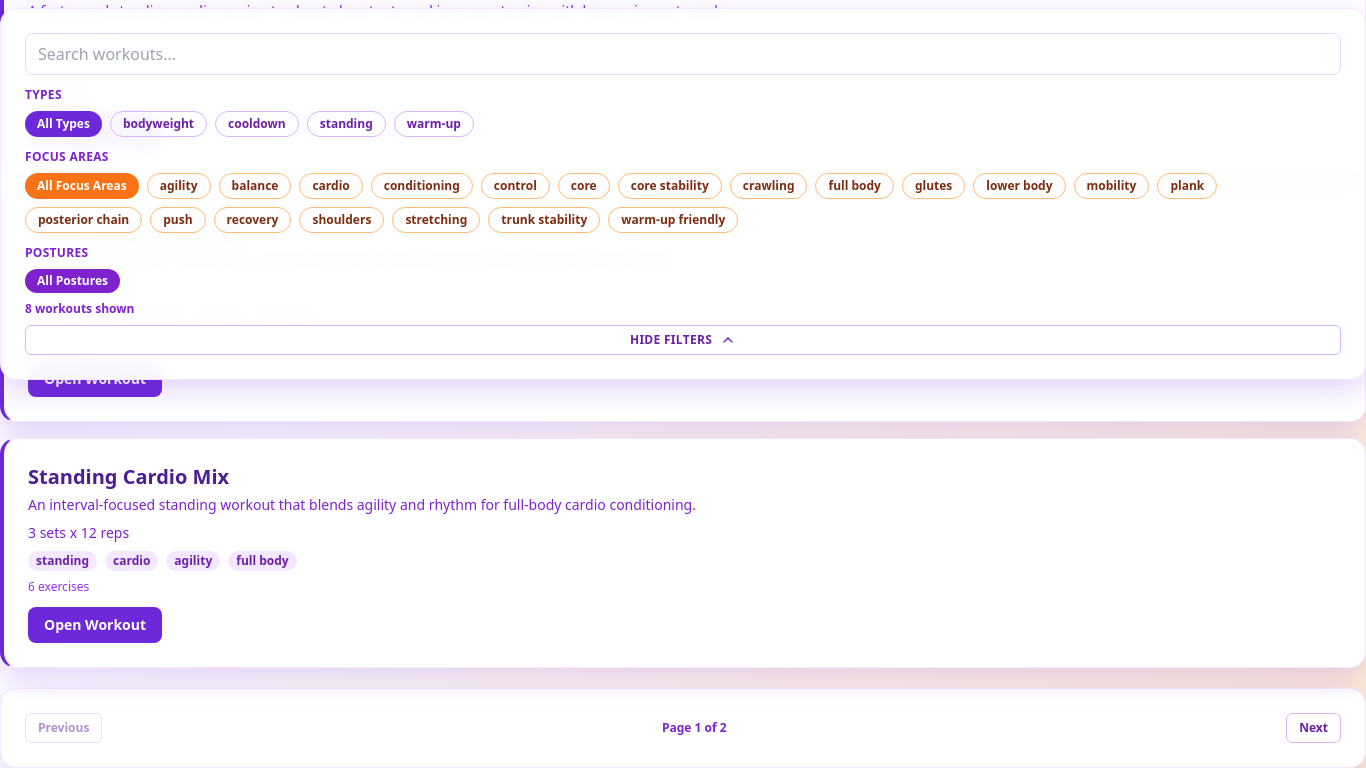
WorkoutList search › paginates workouts with 5 per page
(page scrolled)
Expected: the text "Page 1 of 2" is shown, [662,720,727,736]
Expected: the text "Bodyweight Core Control" is not shown
Click the button "Next" at (1314, 728), box [1286,713,1341,743]
(page scrolled)
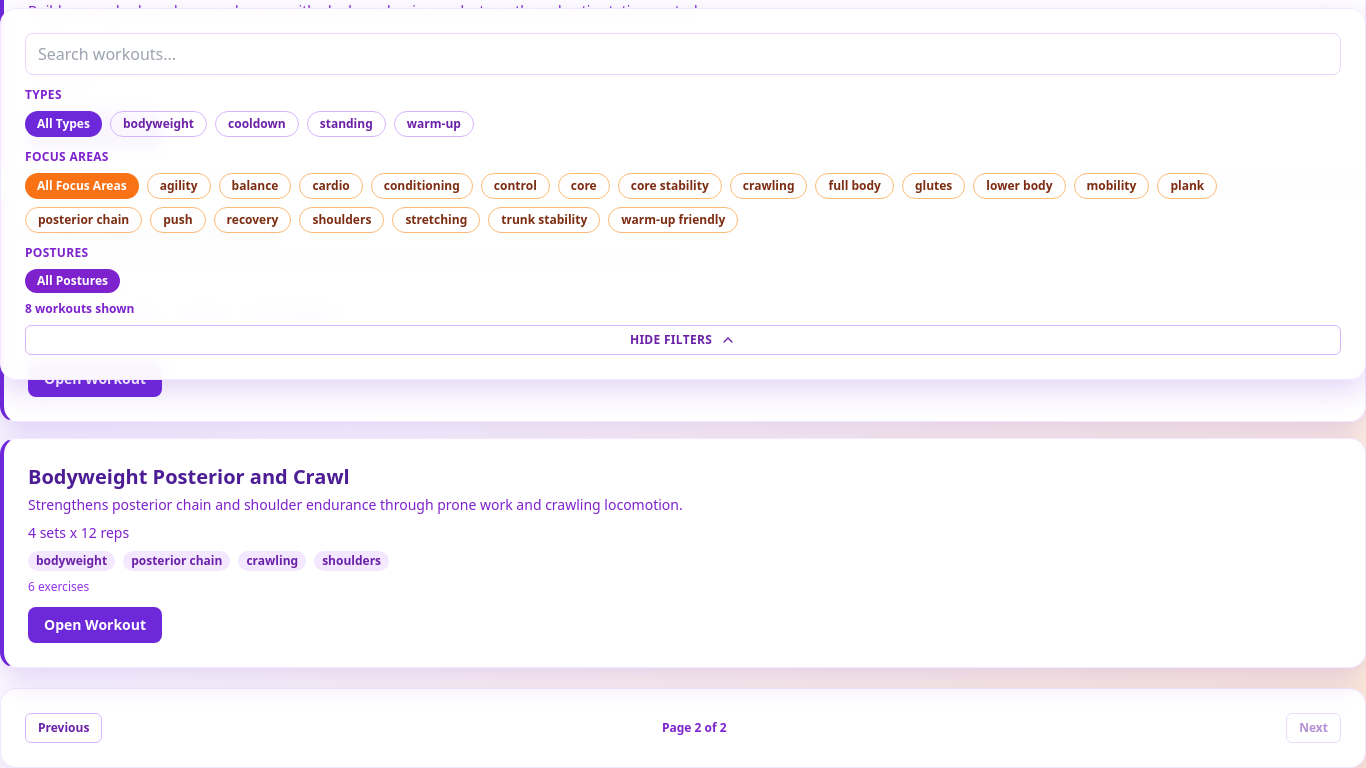
Expected: the link "Bodyweight Core Control" is shown, [28,217,278,244]
Now the text "Page 2 of 2" is shown, box [662,720,727,736]
